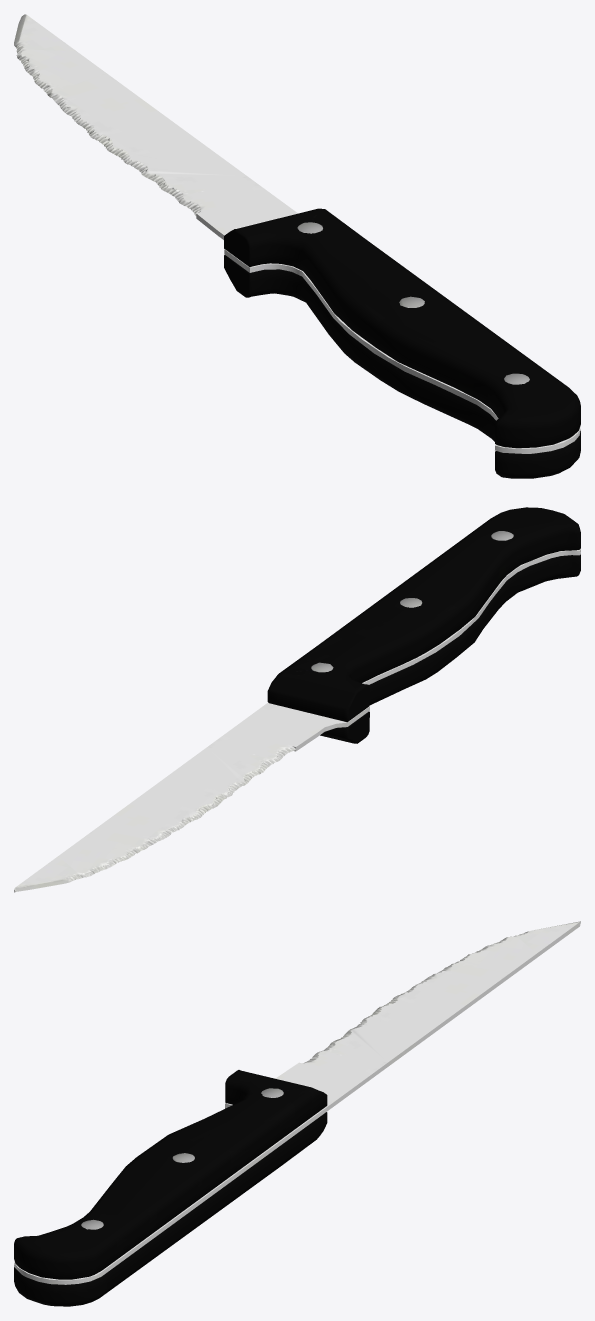
File: SNITTA Couteau, noir, 22 cm.glb
The picture shows the model from 3 angles, top to bottom: view 1: azimuth 30°, elevation 25°; view 2: azimuth 150°, elevation 25°; view 3: azimuth 330°, elevation 25°; orthographic projection. The views are drawn at different scales.
Parts seen in each view (by area): view 1: model; view 2: model; view 3: model.
Boxes of the visible parts, x1,y1,x2,y2 form: model: (14, 14, 580, 478); model: (14, 507, 580, 892); model: (14, 921, 580, 1306).
Size of the model in its own units: 0.0206 by 0.0131 by 0.2207.
1 material, 1 textured.
